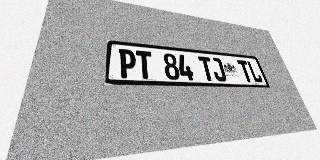4: (176, 54, 194, 80)
8: (162, 53, 180, 80)
J: (210, 57, 227, 81)
L: (246, 61, 263, 83)
P: (119, 49, 136, 79)
T: (136, 50, 154, 79), (198, 56, 216, 81), (237, 60, 254, 82)
